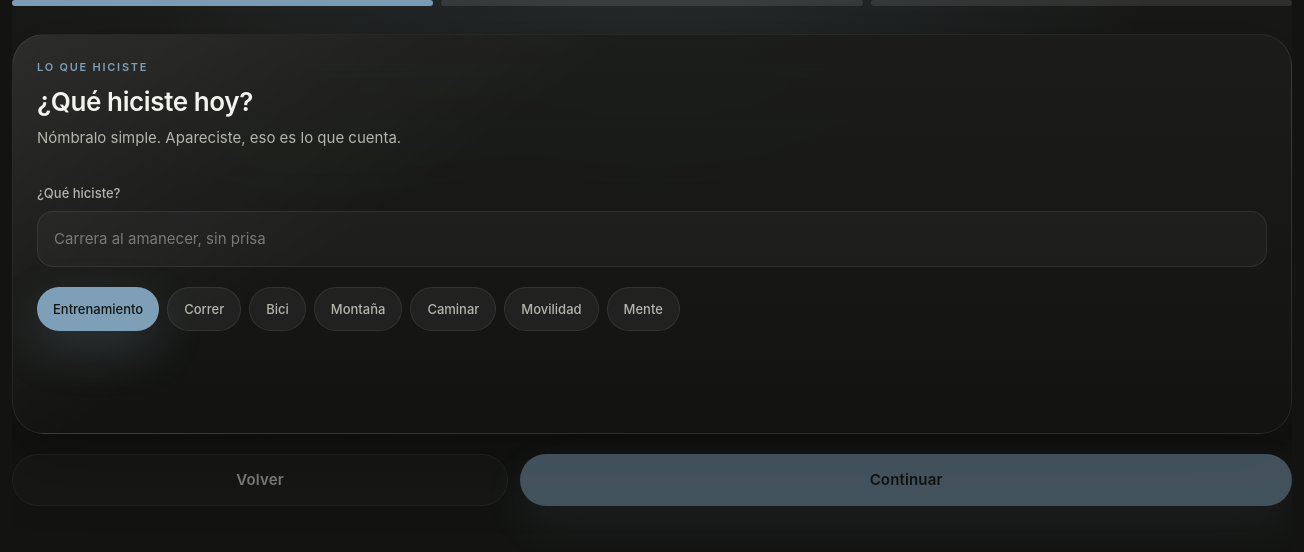
it: CommitFlowClient › advances on Enter from a single-line step instead of publishing
This screenshot has width=1304, height=552.
Type "Tren inferior" into the field labelled "¿Qué hiciste?".
click(652, 239); type("Tren inferior")  # box [37,211,1267,267]
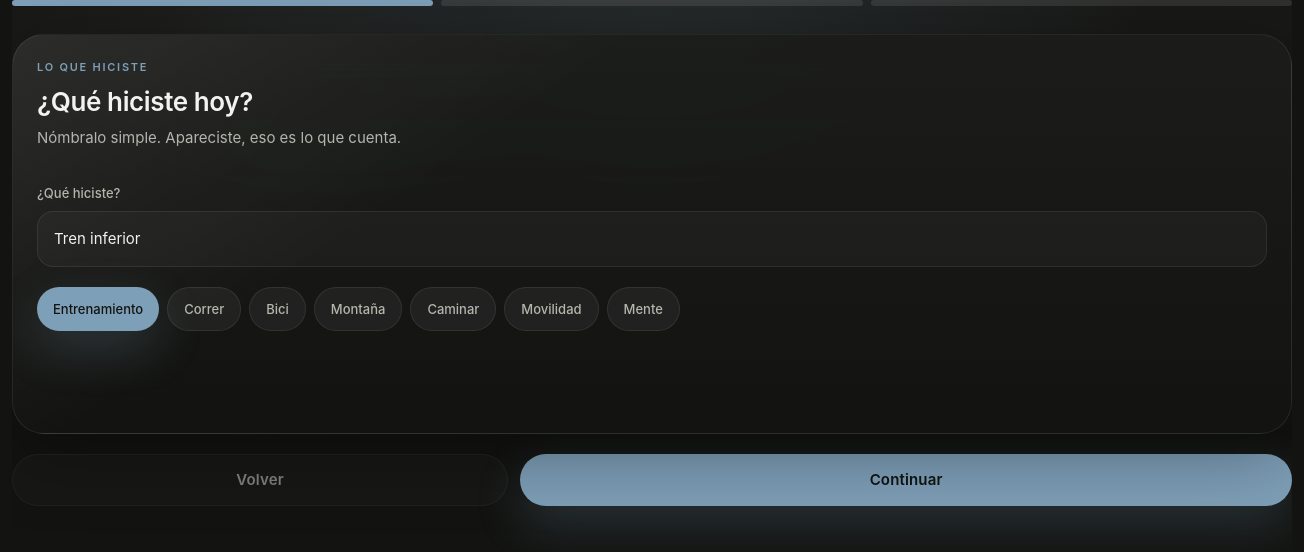
Press Enter in the field labelled "¿Qué hiciste?", box [37,211,1267,267]
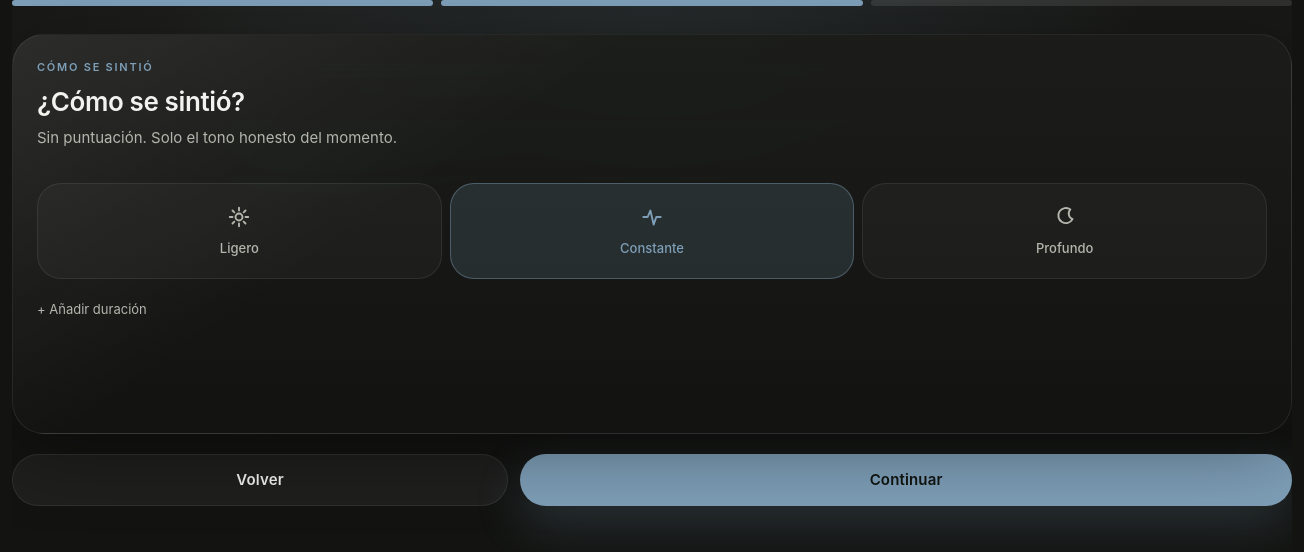
Expected: the button "Constante" is shown, [450,183,854,279]
